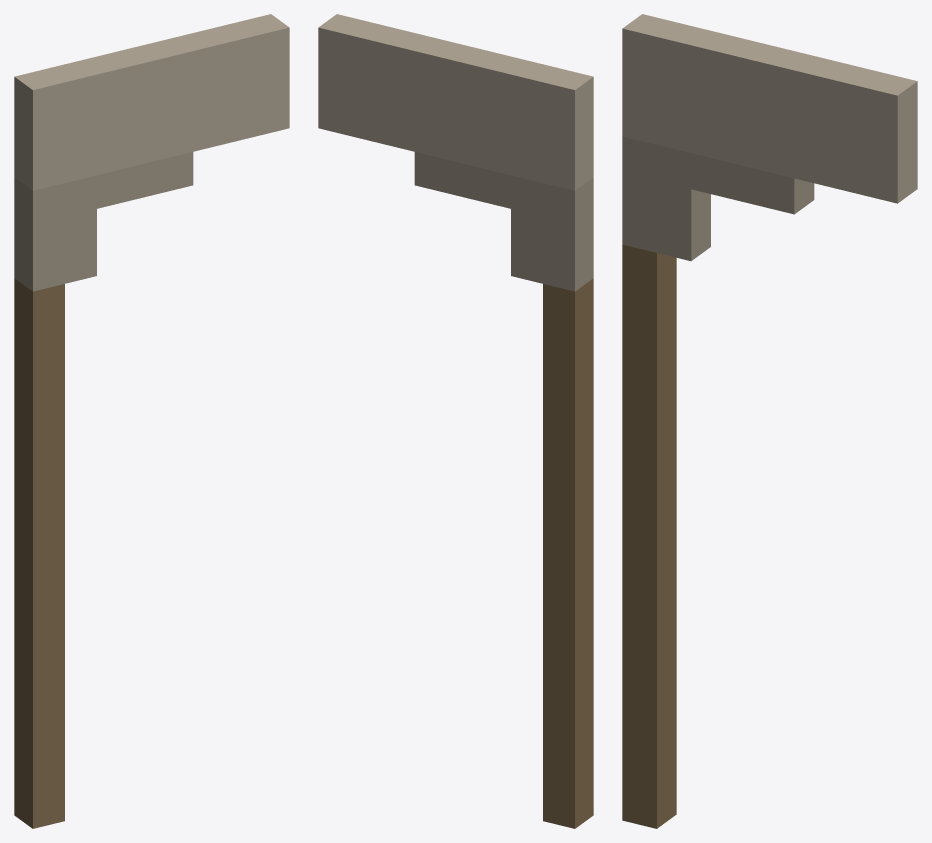
The model's file is hacha_combate_01.glb.
3 renders of one model, left to right at view 1: azimuth 30°, elevation 25°; view 2: azimuth 150°, elevation 25°; view 3: azimuth 330°, elevation 25°, orthographic. The views are drawn at different scales.
Parts seen in each view (by area): view 1: hacha_combate; view 2: hacha_combate; view 3: hacha_combate.
Boxes of the visible parts, <box> form: hacha_combate: <box>14,14,289,828</box>; hacha_combate: <box>318,14,593,828</box>; hacha_combate: <box>622,14,917,828</box>.
Bounding box in the file's own units: 0.6667 × 1.83 × 0.0833.
